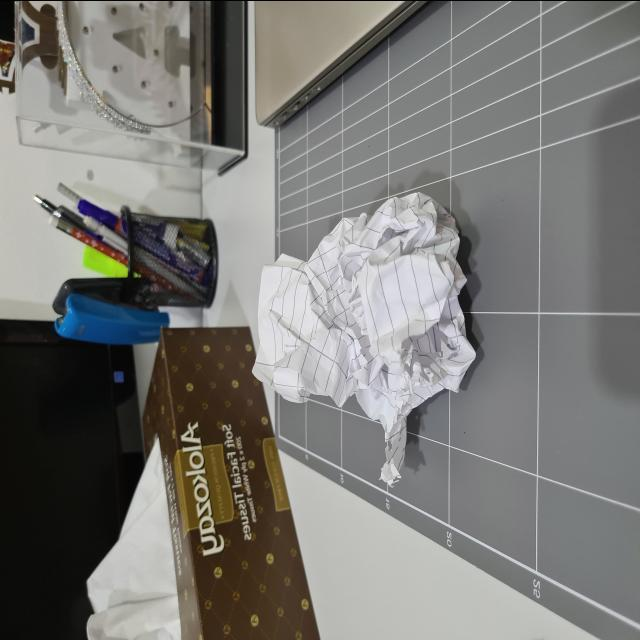Paper: (246, 194, 488, 486)
